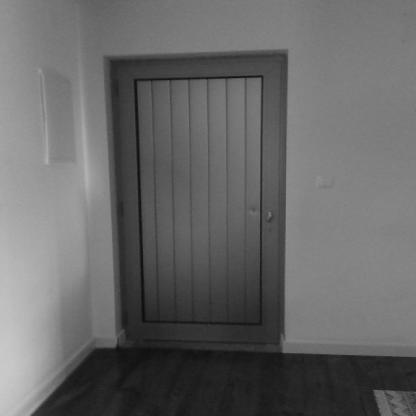door: (104, 43, 295, 348)
